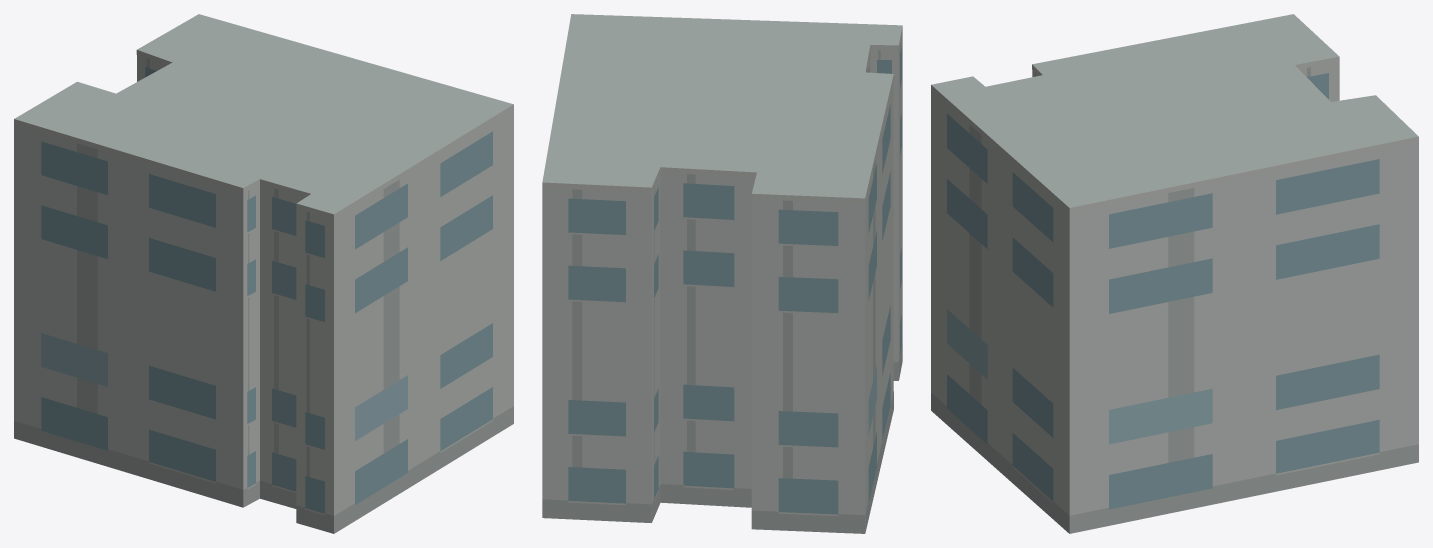
The model's file is survey-upis-32905387.glb.
3 renders of one model, left to right at view 1: azimuth 30°, elevation 25°; view 2: azimuth 150°, elevation 25°; view 3: azimuth 270°, elevation 25°, orthographic. The views are drawn at different scales.
Parts seen in each view (by area): view 1: survey-upis-32905387.tmp; view 2: survey-upis-32905387.tmp; view 3: survey-upis-32905387.tmp.
Boxes of the visible parts, left/top/right/bottom form: survey-upis-32905387.tmp: left=14, top=14, right=513, bottom=533; survey-upis-32905387.tmp: left=542, top=14, right=902, bottom=533; survey-upis-32905387.tmp: left=931, top=14, right=1418, bottom=533.
Size of the model in its own units: 19.22 by 15.05 by 20.42.
